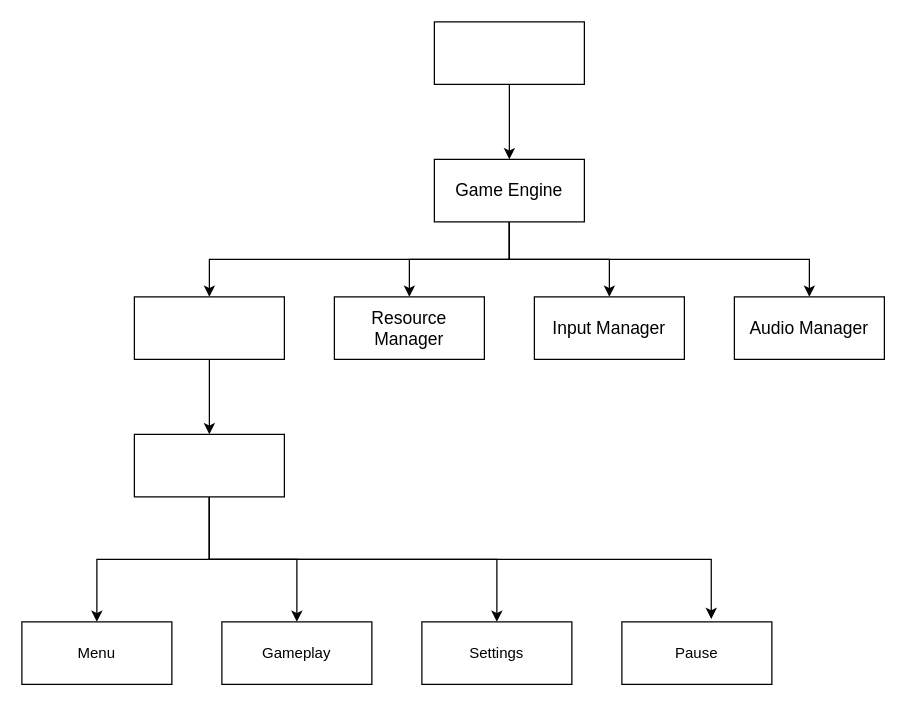
This 906x706 diagram has some shape labels left out. Each missing label, with the box of its shape:
Current State: (133, 433, 284, 497)
Monster Maze 2.0: (433, 21, 584, 84)
State Manager: (133, 296, 284, 359)
